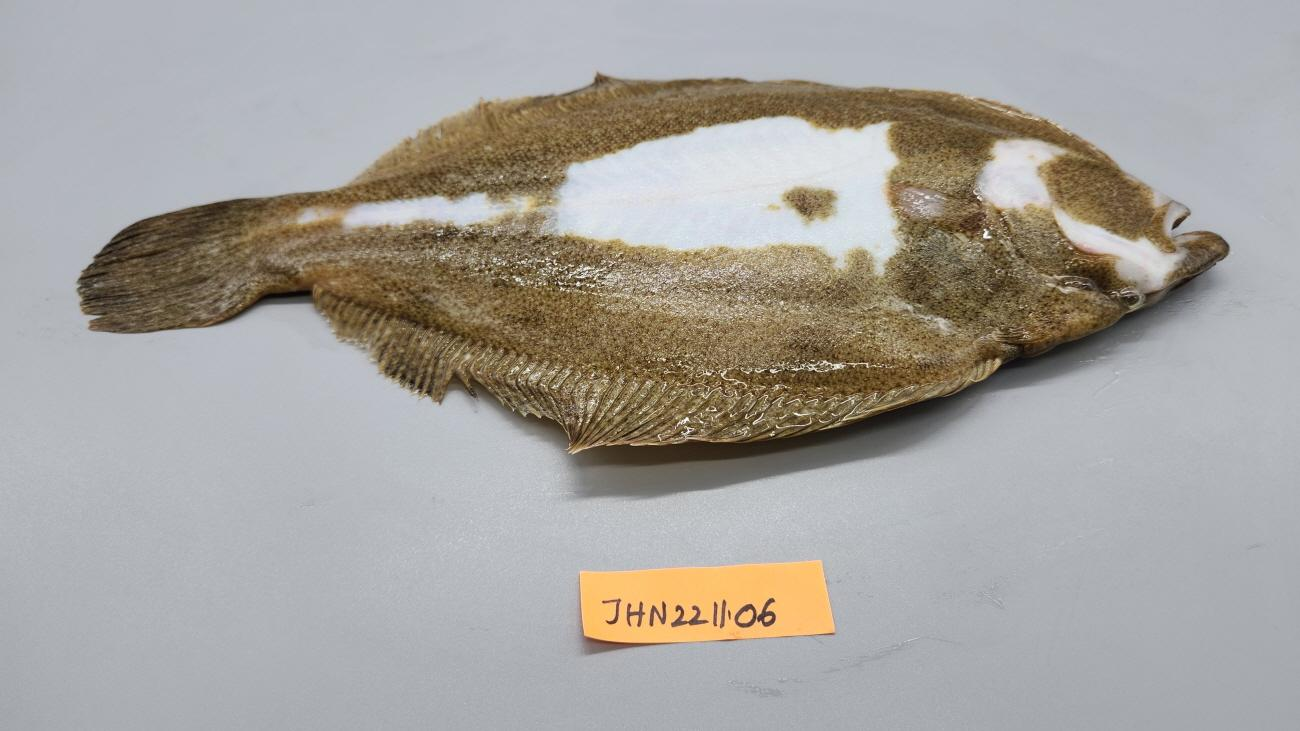POOUN: (73, 66, 1234, 458)
